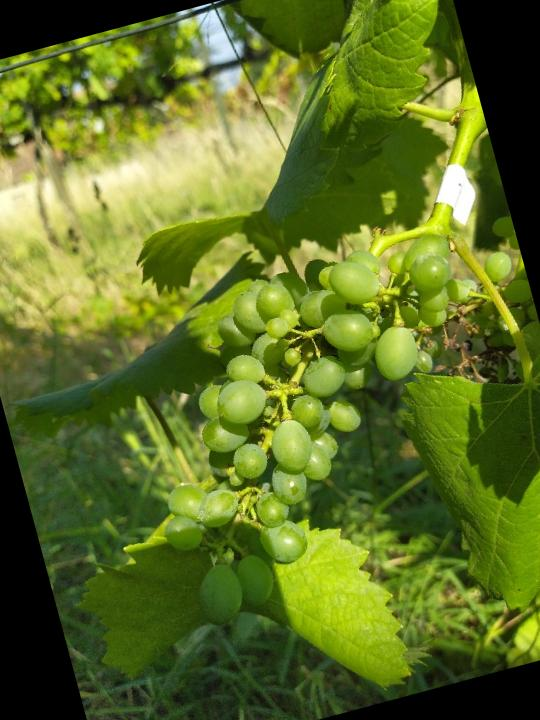grape: (104, 216, 540, 640)
